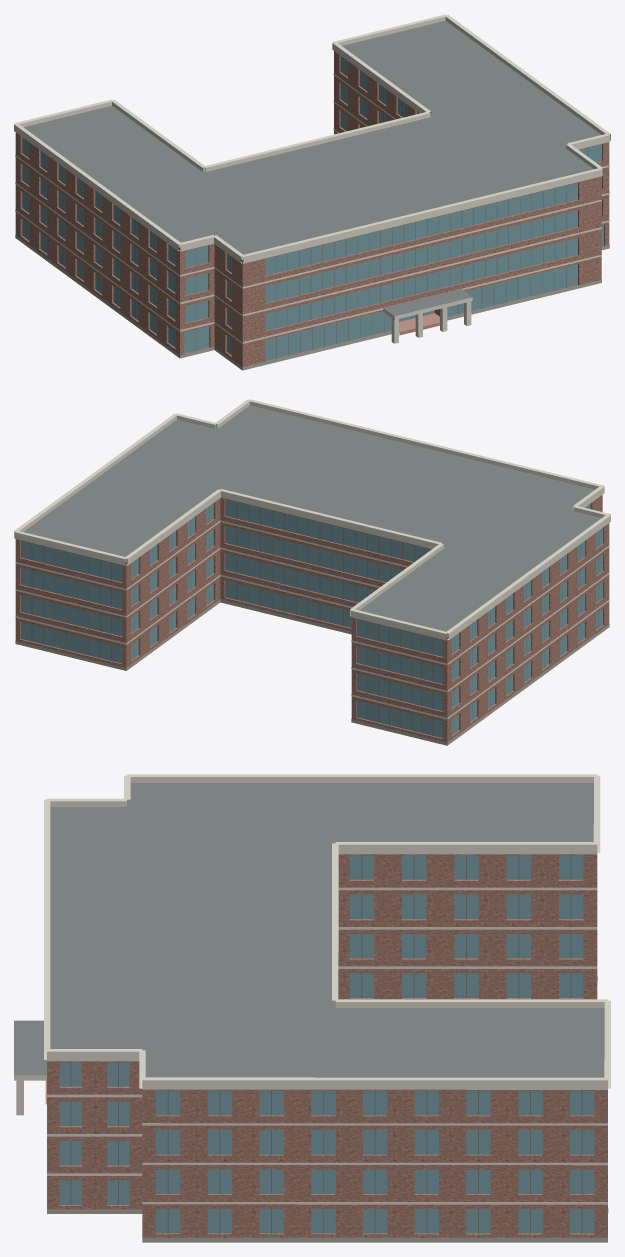
3 renders of one model, top to bottom at view 1: azimuth 30°, elevation 25°; view 2: azimuth 150°, elevation 25°; view 3: azimuth 270°, elevation 25°, orthographic. The views are drawn at different scales.
Parts seen in each view (by area): view 1: management__roof, management__wall, management__glass, management__trim, management__frame, management__base, management__column; view 2: management__roof, management__wall, management__glass, management__trim, management__frame, management__base; view 3: management__roof, management__wall, management__glass, management__trim, management__base, management__frame.
Part boxes in pixels (x1,y1,x2,y2): management__roof: (24, 20, 600, 316); management__wall: (15, 51, 609, 369); management__glass: (22, 56, 603, 360); management__trim: (14, 14, 610, 343); management__frame: (26, 59, 588, 358); management__base: (15, 235, 609, 370); management__column: (391, 301, 471, 343); management__roof: (23, 405, 601, 636); management__wall: (15, 495, 609, 745); management__glass: (21, 499, 602, 738); management__trim: (14, 399, 610, 719); management__frame: (31, 502, 598, 735); management__base: (15, 599, 609, 745); management__roof: (14, 783, 604, 1077); management__wall: (47, 854, 607, 1237); management__glass: (59, 855, 594, 1233); management__trim: (14, 774, 610, 1204); management__base: (47, 977, 608, 1242); management__frame: (70, 855, 582, 1233).
Bounding box in the file's own units: 61.64 × 15.75 × 50.84.
9 materials, 1 textured.
